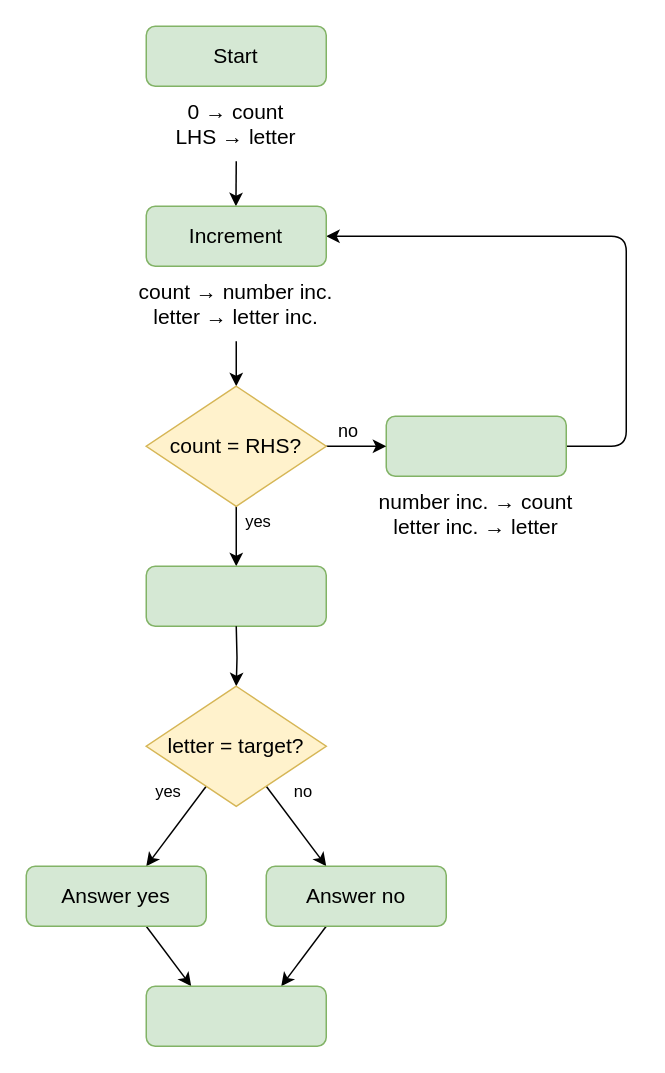
Some shapes in this 665 by 1073 pixel diagram are drawn without their labels. The box of each missing label's shape, as (x1, y1, x2, y2) in pixels:
Compare: (145, 565, 326, 626)
Done: (145, 985, 326, 1046)
Update: (385, 415, 566, 476)
